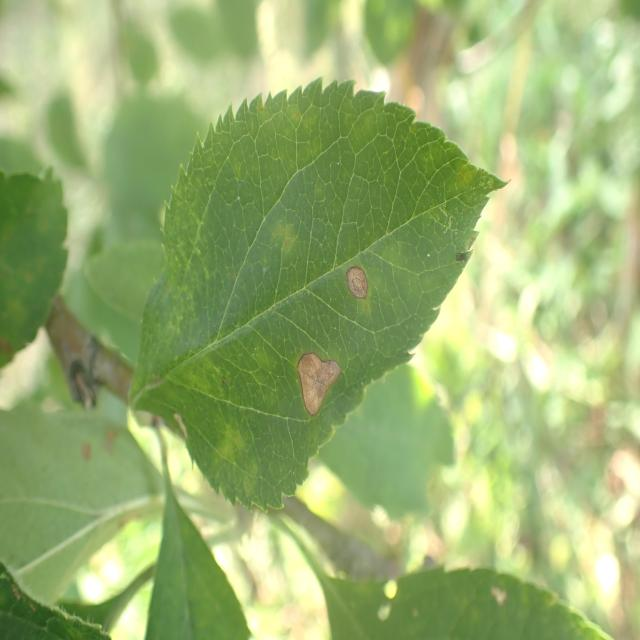frog-eye-leaf-spot: (130, 76, 510, 514)
